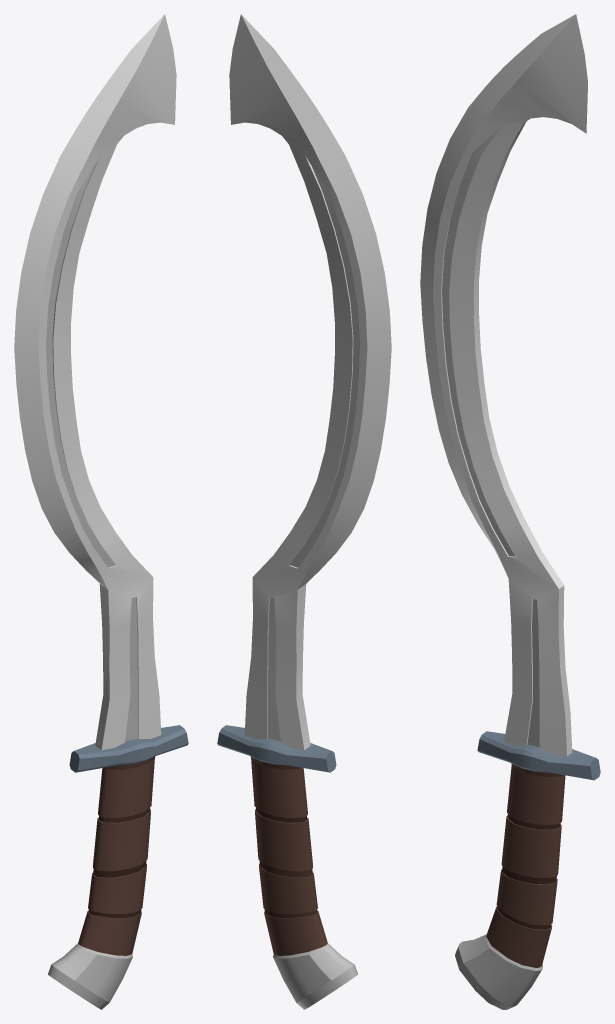
File: SM_Sword15_Khopesh_3Silver.fbx
The picture shows the model from 3 angles, left to right: view 1: azimuth 30°, elevation 25°; view 2: azimuth 150°, elevation 25°; view 3: azimuth 330°, elevation 25°; orthographic projection. The views are drawn at different scales.
Parts seen in each view (by area): view 1: Cube.437, Cylinder.629, Cube.438; view 2: Cube.437, Cylinder.629, Cube.438; view 3: Cube.437, Cylinder.629, Cube.438.
Boxes of the visible parts, bbox=[...] form: Cube.437: bbox=[14, 14, 176, 750]; Cylinder.629: bbox=[48, 756, 155, 1009]; Cube.438: bbox=[69, 725, 188, 772]; Cube.437: bbox=[229, 14, 391, 750]; Cylinder.629: bbox=[250, 756, 357, 1009]; Cube.438: bbox=[217, 725, 336, 772]; Cube.437: bbox=[420, 14, 587, 756]; Cylinder.629: bbox=[455, 763, 565, 1009]; Cube.438: bbox=[477, 731, 600, 780].
Bounding box in the file's own units: 0.1167 × 0.6384 × 0.0277.
